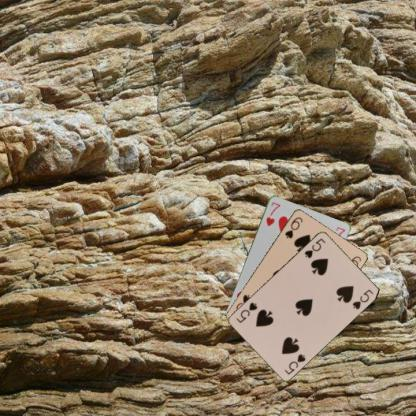5s: (282, 351, 307, 376), (302, 235, 326, 260)
6s: (282, 214, 304, 239)
7h: (263, 199, 282, 227)
